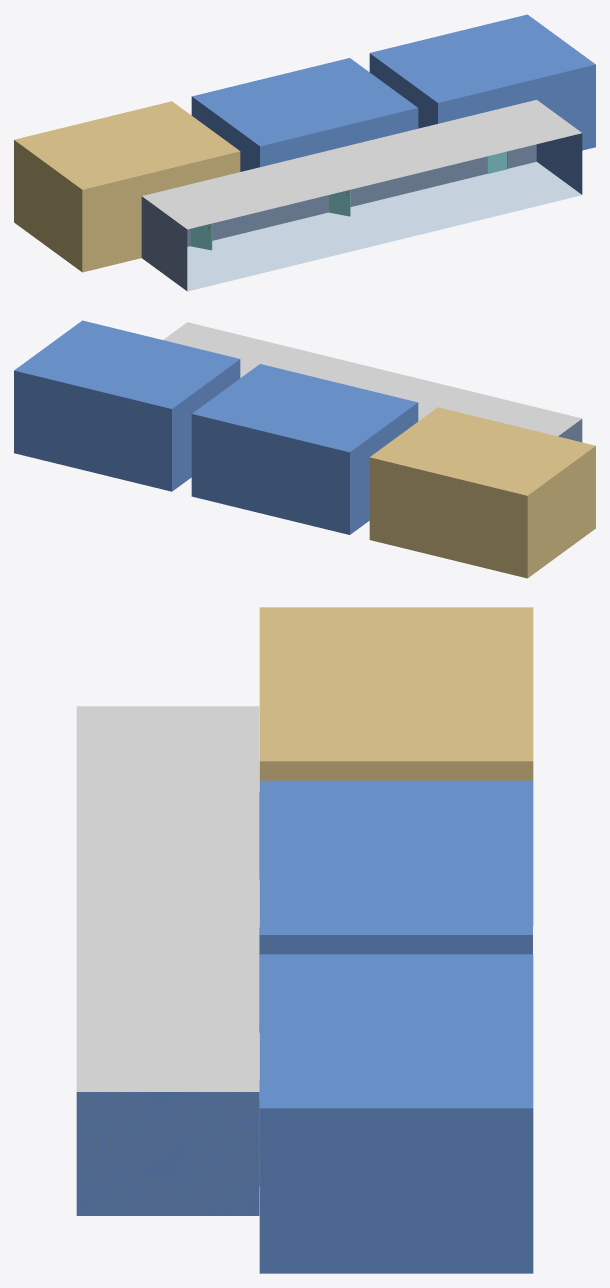
3 views of the same model, one above another, from view 1: azimuth 30°, elevation 25°; view 2: azimuth 150°, elevation 25°; view 3: azimuth 270°, elevation 25° (orthographic). The views are drawn at different scales.
Visible parts, largest first — view 1: Cube.005, Cube.003, Cube.004, Cube.002; view 2: Cube.005; view 3: Cube.005.
Boxes of the visible parts, x1=… form: Cube.005: x1=14, y1=14, x2=595, y2=291; Cube.003: x1=190, y1=223, x2=212, y2=250; Cube.004: x1=329, y1=189, x2=350, y2=216; Cube.002: x1=487, y1=151, x2=507, y2=173; Cube.005: x1=14, y1=320, x2=595, y2=578; Cube.005: x1=76, y1=607, x2=533, y2=1273.
Size of the model in its own units: 2600 by 400 by 1001.
